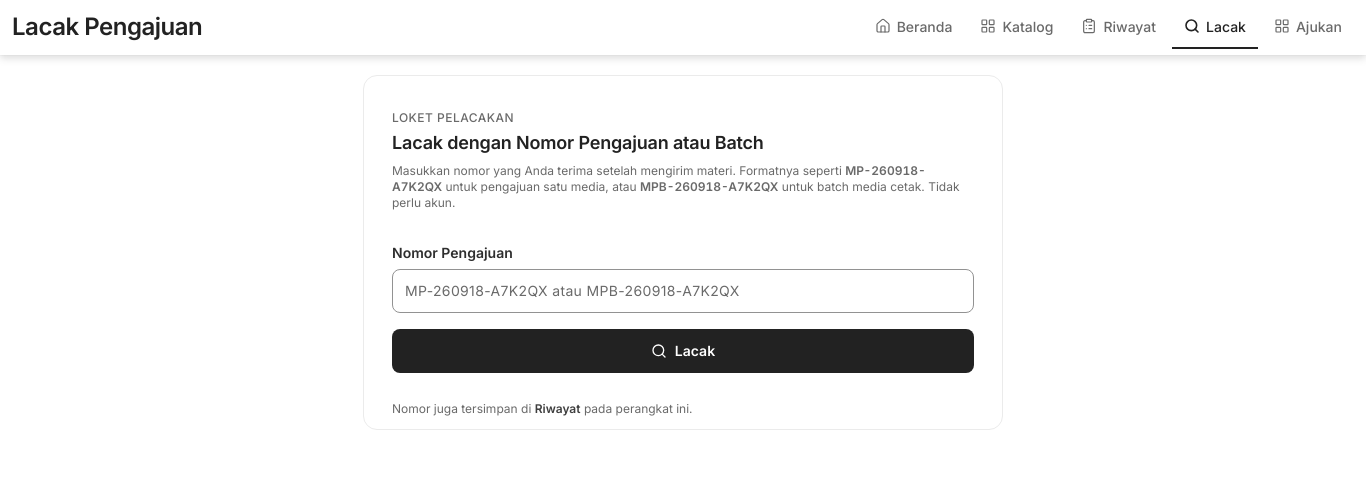
Test: TrackSubmissionPage - jalur batch › input di luar kedua format → ditolak di klien tanpa memanggil API
Type "ABC-123" into the field labelled "Nomor Pengajuan". click: (683, 290)
box: x1=392 y1=268 x2=974 y2=312
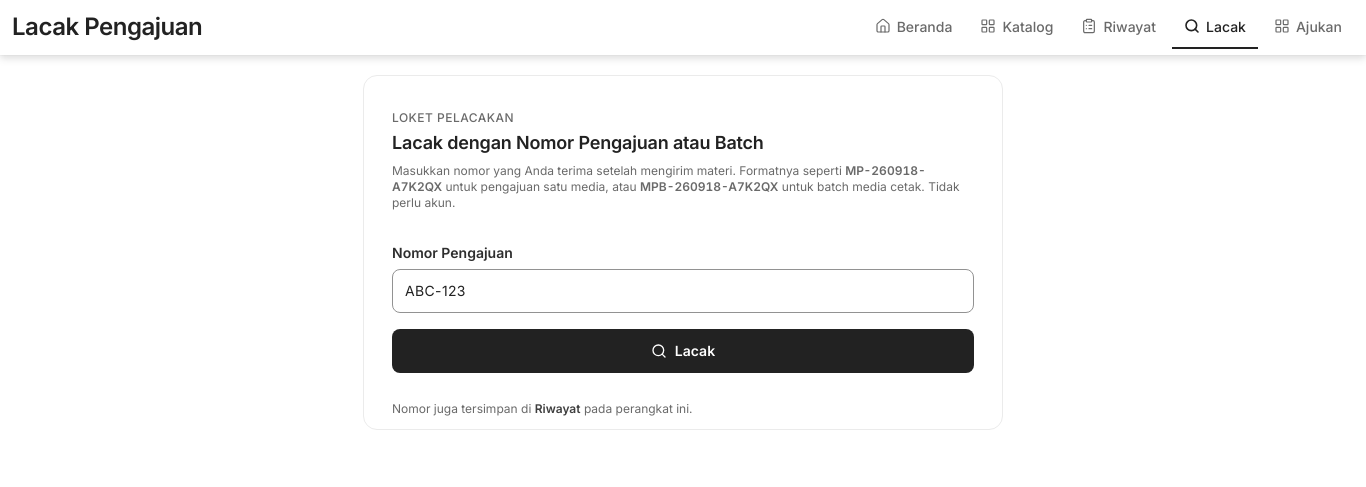
Click the button "Lacak". click: (683, 350)
box: x1=392 y1=328 x2=974 y2=372
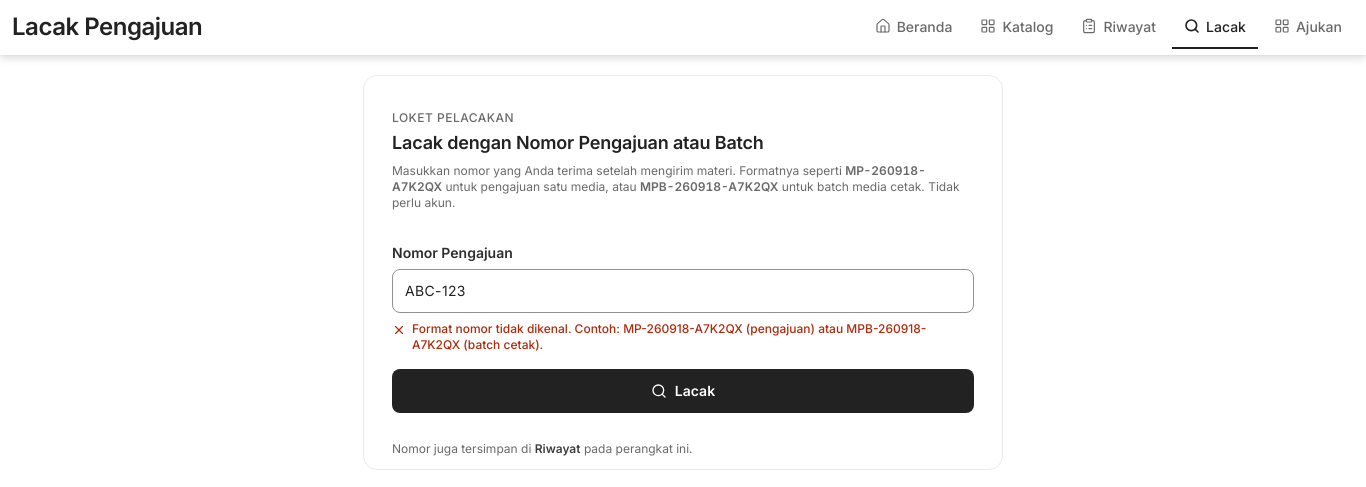
Result: the text "Format nomor tidak dikenal" is shown at x1=412 y1=320 x2=926 y2=352
